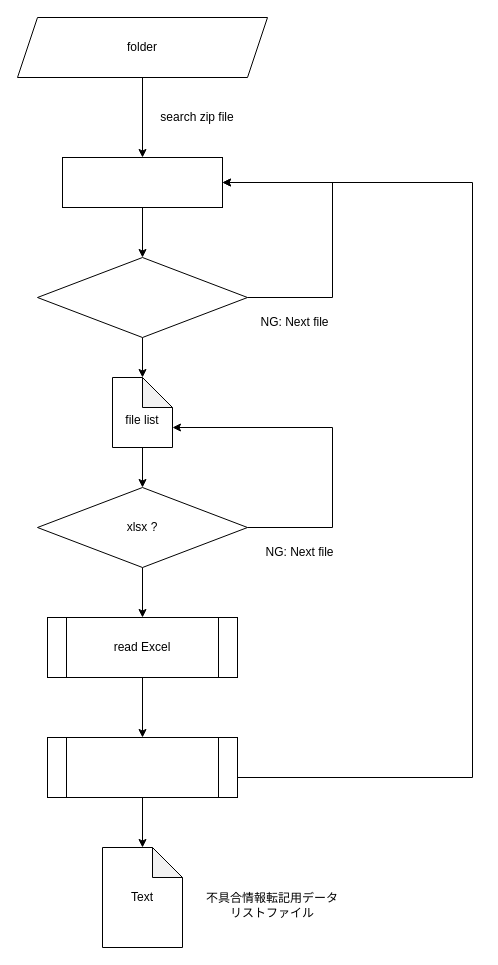
The diagram is 498 pixels wide and 965 high, and some of its shapes have lost their labels. The shapes that lost their labels are listed below. From the top down, each one's centre as x and y in pixels, then its label:
At pixel 142 182: "zipfile".
At pixel 142 297: "password".
At pixel 142 767: "data list".
